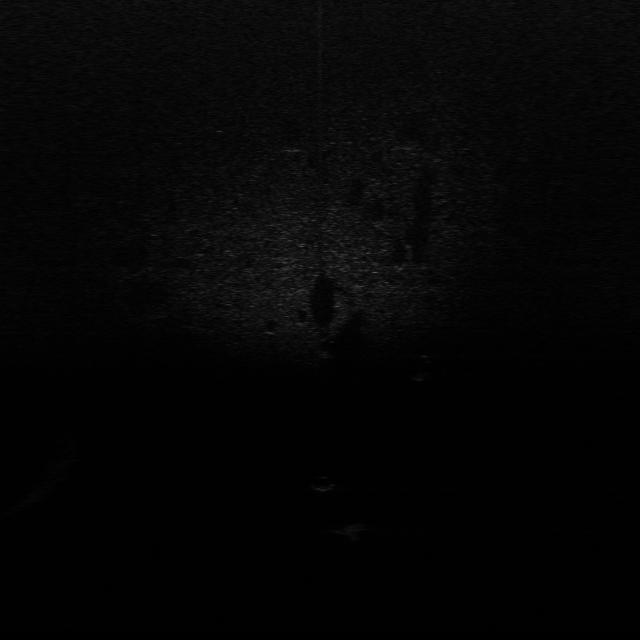ball: (310, 472, 336, 494)
square cage: (319, 522, 372, 541)
tyre: (410, 354, 440, 386)
